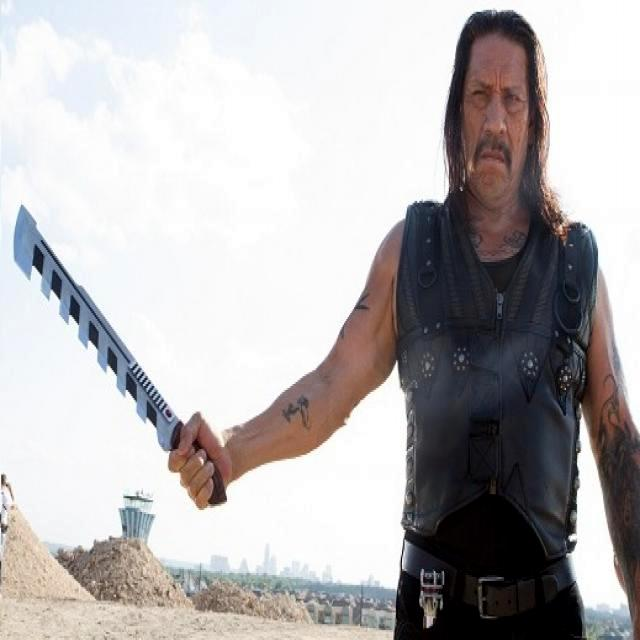long knife: (13, 188, 237, 522)
